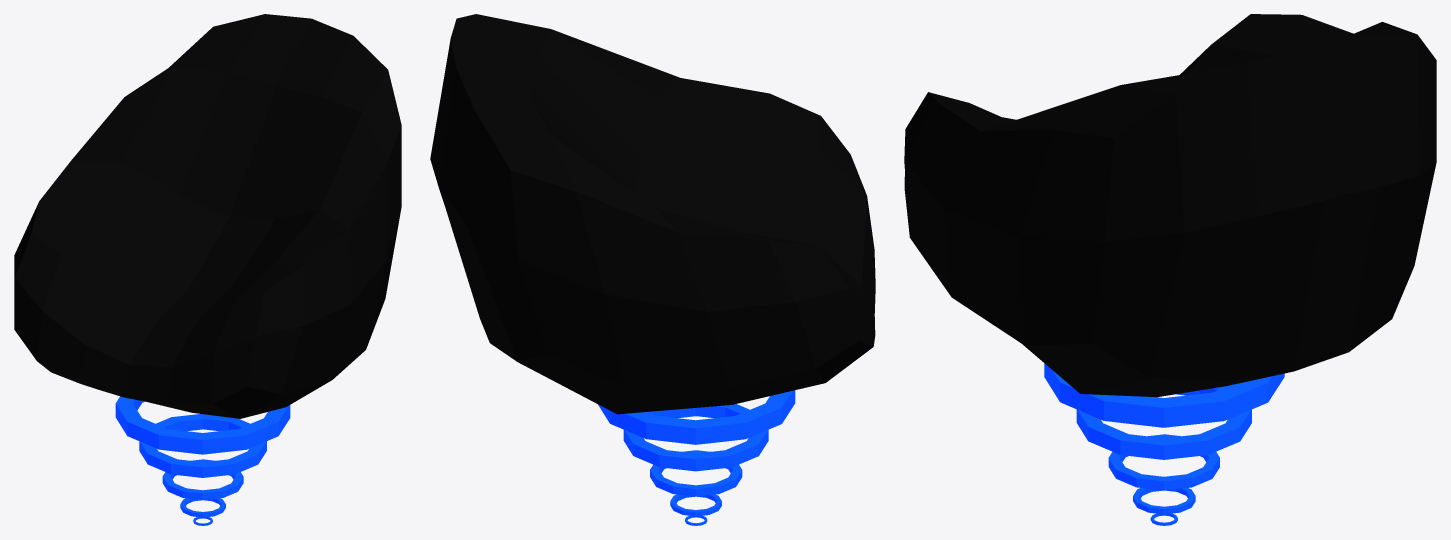
Rendered from Floating chair.glb.
3 renders of one model, left to right at view 1: azimuth 30°, elevation 25°; view 2: azimuth 150°, elevation 25°; view 3: azimuth 270°, elevation 25°, orthographic. The views are drawn at different scales.
Parts seen in each view (by area): view 1: Floating chair; view 2: Floating chair; view 3: Floating chair.
Part boxes in pixels (<box>): Floating chair: <box>14,14,401,525</box>; Floating chair: <box>430,14,875,525</box>; Floating chair: <box>904,14,1436,525</box>.
Bounding box in the file's own units: 1.13 × 1.27 × 1.05.
